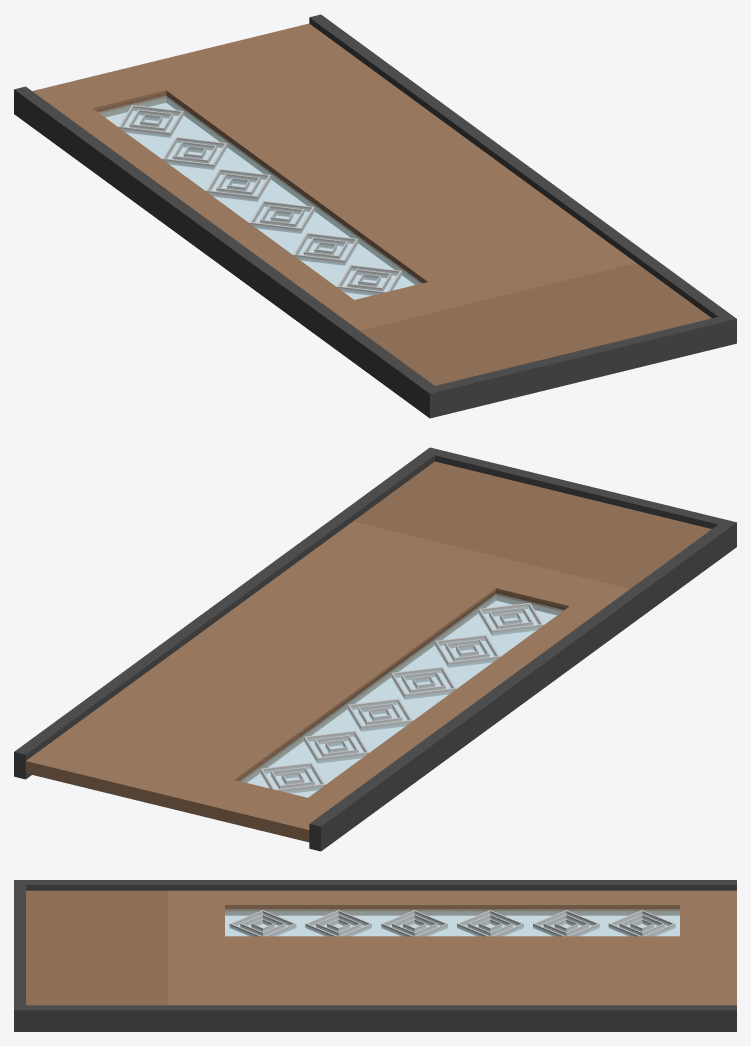
Rendered from Parametric_Door_X_1200mm.obj.
3 renders of one model, top to bottom at view 1: azimuth 30°, elevation 25°; view 2: azimuth 150°, elevation 25°; view 3: azimuth 270°, elevation 25°, orthographic. The views are drawn at different scales.
Visible parts, largest first — view 1: DOOR_LEAF, DOOR_FRAME, DOOR_TRANSOM, DOOR_GLASS, DOOR_DIAMONDS; view 2: DOOR_LEAF, DOOR_FRAME, DOOR_TRANSOM, DOOR_GLASS, DOOR_DIAMONDS, DOOR_TRIM; view 3: DOOR_LEAF, DOOR_FRAME, DOOR_TRANSOM, DOOR_GLASS, DOOR_DIAMONDS.
Part boxes in pixels (x1,y1,x2,y2): DOOR_LEAF: [32, 23, 635, 330]; DOOR_FRAME: [14, 14, 736, 418]; DOOR_TRANSOM: [360, 263, 711, 385]; DOOR_GLASS: [98, 96, 421, 299]; DOOR_DIAMONDS: [118, 105, 401, 295]; DOOR_LEAF: [25, 521, 629, 842]; DOOR_FRAME: [14, 447, 736, 851]; DOOR_TRANSOM: [353, 461, 711, 588]; DOOR_GLASS: [240, 593, 563, 797]; DOOR_DIAMONDS: [260, 603, 543, 793]; DOOR_TRIM: [239, 591, 566, 780]; DOOR_LEAF: [168, 890, 736, 1005]; DOOR_FRAME: [14, 880, 736, 1031]; DOOR_TRANSOM: [26, 890, 167, 1005]; DOOR_GLASS: [225, 909, 679, 936]; DOOR_DIAMONDS: [229, 910, 675, 936].
Bounding box in the file's own units: 1300 × 100 × 3050.
